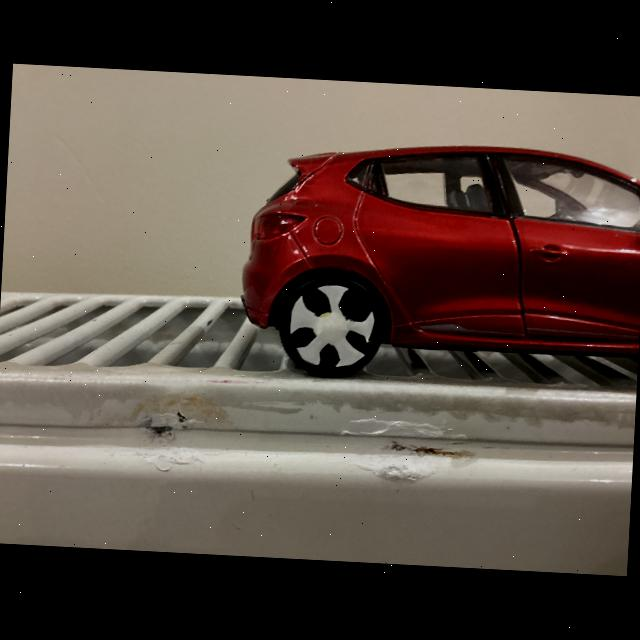Yanlis_Jant: (286, 283, 378, 372)
